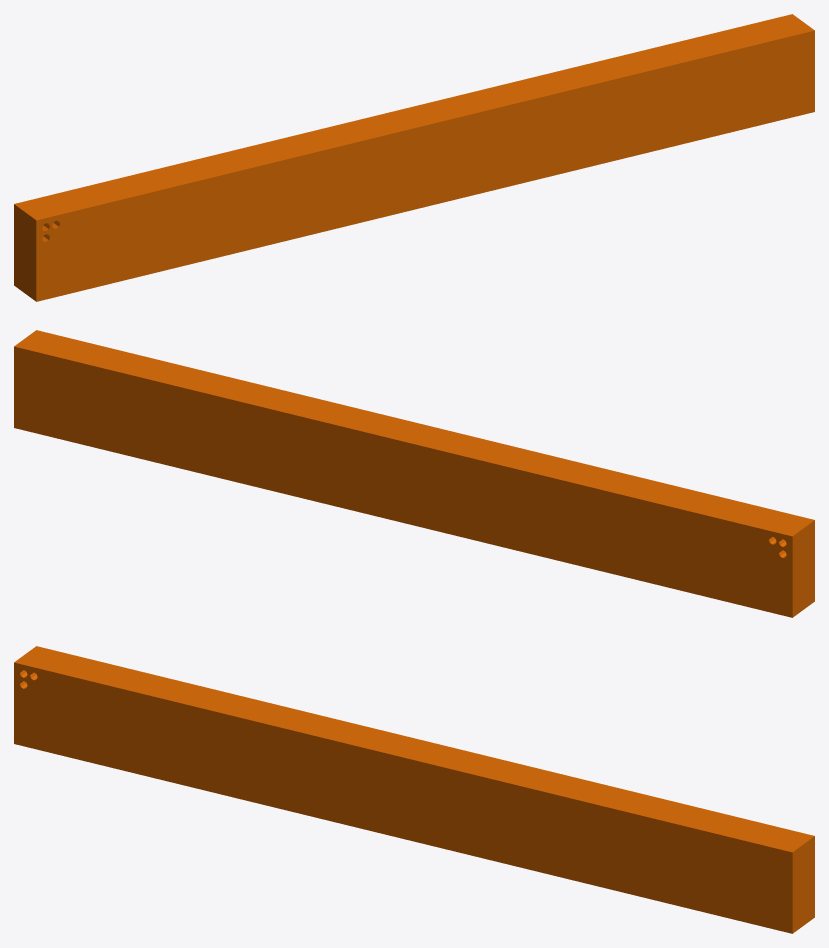
The model's file is Beam.obj.
3 views of the same model, one above another, from view 1: azimuth 30°, elevation 25°; view 2: azimuth 150°, elevation 25°; view 3: azimuth 330°, elevation 25° (orthographic).
Parts seen in each view (by area): view 1: Beam; view 2: Beam; view 3: Beam.
Boxes of the visible parts, left/top/right/bottom form: Beam: left=14, top=14, right=814, bottom=301; Beam: left=14, top=330, right=814, bottom=617; Beam: left=14, top=646, right=814, bottom=933.
Size of the model in its own units: 200 by 20 by 10.
